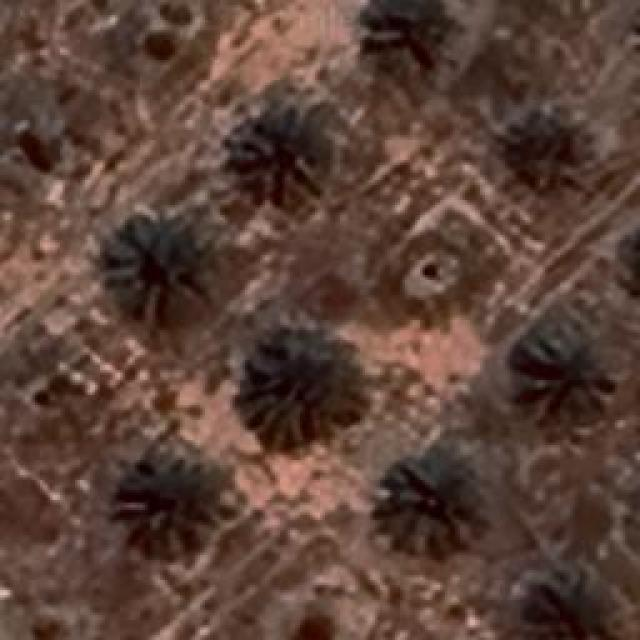PalmTree: (235, 330, 370, 450), (110, 446, 225, 554), (362, 442, 472, 552), (354, 0, 466, 88), (108, 218, 202, 308), (228, 111, 322, 199), (492, 104, 588, 190), (520, 330, 612, 412), (521, 570, 624, 640)
